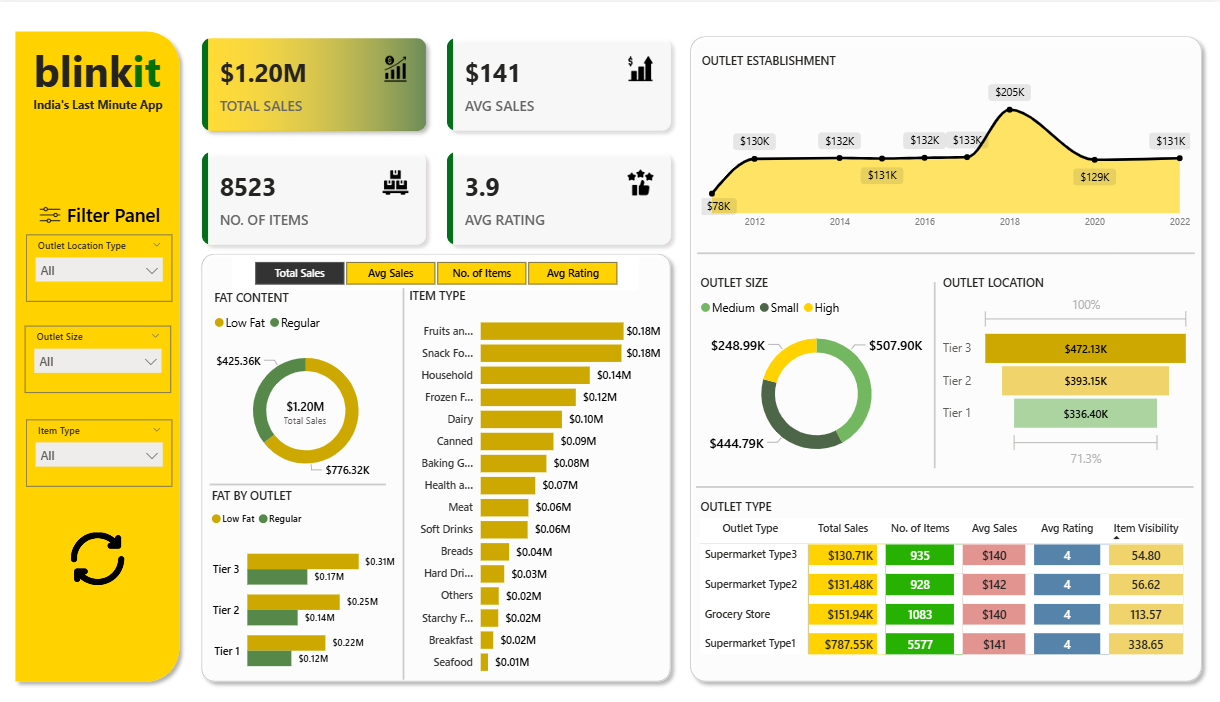

The page's visual inventory and layout, read from the dashboard file:
{"tool":"powerbi","page":{"name":"Page 1","canvas":[1400,800],"ordinal":0},"visuals":[{"type":"shape","box":[12.9,24.3,205.7,761.4],"z":0},{"type":"textbox","box":[12.9,40,205.7,80],"z":1000},{"type":"textbox","box":[18.6,102.9,195.7,34.3],"z":2000},{"type":"cardVisual","fields":{"Data":["BlinkIT Grocery Data.Total Sales","BlinkIT Grocery Data.Avg Sales","BlinkIT Grocery Data.No. of Items","BlinkIT Grocery Data.Avg Rating"]},"box":[218.6,24.3,570,270],"z":3000},{"type":"shape","box":[225.7,278.6,554.3,507.1],"z":4000},{"type":"donutChart","title":"FAT CONTENT","fields":{"Y":["BlinkIT Grocery Data.Total Sales"],"Category":["BlinkIT Grocery Data.Item Fat Content"]},"box":[244.3,328.6,220,230],"z":5000},{"type":"slicer","fields":{"Values":["Metrics.Metrics"]},"box":[270,290,464.3,40],"z":6000},{"type":"cardVisual","fields":{"Data":["BlinkIT Grocery Data.Total Sales"]},"box":[305.7,428.6,95.7,80],"z":7000},{"type":"barChart","title":"ITEM TYPE","fields":{"Y":["BlinkIT Grocery Data.Total Sales"],"Category":["BlinkIT Grocery Data.Item Type"]},"box":[467.1,325.7,297.1,454.3],"z":8000},{"type":"clusteredBarChart","title":"FAT BY OUTLET","fields":{"Y":["BlinkIT Grocery Data.Total Sales"],"Category":["BlinkIT Grocery Data.Outlet Location Type"],"Series":["BlinkIT Grocery Data.Item Fat Content"]},"box":[241.4,554.3,220,230],"z":9000},{"type":"shape","box":[244.3,534.3,201.4,34.3],"z":10000},{"type":"shape","box":[445.7,327.1,40,447.1],"z":11000},{"type":"shape","box":[784.3,30,602.9,755.7],"z":12000},{"type":"lineChart","title":"OUTLET ESTABLISHMENT","fields":{"Category":["BlinkIT Grocery Data.Outlet Establishment Year"],"Y":["BlinkIT Grocery Data.Total Sales"]},"box":[801.4,57.1,568.6,211.4],"z":13000},{"type":"shape","box":[801.4,270,568.6,34.3],"z":14000},{"type":"donutChart","title":"OUTLET SIZE","fields":{"Y":["BlinkIT Grocery Data.Total Sales"],"Category":["BlinkIT Grocery Data.Outlet Size"]},"box":[800,312,275.7,225.7],"z":15000},{"type":"shape","box":[1052.9,320,40,212.9],"z":16000},{"type":"funnel","title":"OUTLET LOCATION","fields":{"Y":["BlinkIT Grocery Data.Total Sales"],"Category":["BlinkIT Grocery Data.Outlet Location Type"]},"box":[1077.1,312,292.9,225.7],"z":17000},{"type":"shape","box":[800,537.1,568.6,34.3],"z":18000},{"type":"pivotTable","title":"OUTLET TYPE","fields":{"Values":["BlinkIT Grocery Data.Total Sales","BlinkIT Grocery Data.No. of Items","BlinkIT Grocery Data.Avg Sales","BlinkIT Grocery Data.Avg Rating","Sum(BlinkIT Grocery Data.Item Visibility)"],"Rows":["BlinkIT Grocery Data.Outlet Type"]},"box":[800,567.1,572.9,214.3],"z":19000},{"type":"slicer","fields":{"Values":["BlinkIT Grocery Data.Outlet Location Type"]},"box":[34.3,265.7,167.1,77.1],"z":20000},{"type":"slicer","fields":{"Values":["BlinkIT Grocery Data.Outlet Size"]},"box":[32.9,370,167.1,77.1],"z":21000},{"type":"slicer","fields":{"Values":["BlinkIT Grocery Data.Item Type"]},"box":[34.3,477.1,167.1,77.1],"z":22000},{"type":"textbox","box":[76.4,222.5,134,42.9],"z":23000},{"type":"image","box":[28.2,227.9,65.7,29.5],"z":23001},{"type":"image","box":[76.1,601.1,80.7,73],"z":23002}]}

Visuals, with their boxes in screenshot pixels (x1, y1, x2, y2), scaled from the page's 1400x800 canvas onto the 1220x702 screenshot:
shape: 11, 21, 190, 689
textbox: 11, 35, 190, 105
textbox: 16, 90, 187, 120
cardVisual - BlinkIT Grocery Data.Total Sales x BlinkIT Grocery Data.Avg Sales: 190, 21, 687, 258
shape: 197, 244, 680, 689
"FAT CONTENT" donutChart: 213, 288, 405, 490
slicer - Metrics.Metrics: 235, 254, 640, 290
cardVisual - BlinkIT Grocery Data.Total Sales: 266, 376, 350, 446
"ITEM TYPE" barChart: 407, 286, 666, 684
"FAT BY OUTLET" clusteredBarChart: 210, 486, 402, 688
shape: 213, 469, 388, 499
shape: 388, 287, 423, 679
shape: 683, 26, 1209, 689
"OUTLET ESTABLISHMENT" lineChart: 698, 50, 1194, 236
shape: 698, 237, 1194, 267
"OUTLET SIZE" donutChart: 697, 274, 937, 472
shape: 918, 281, 952, 468
"OUTLET LOCATION" funnel: 939, 274, 1194, 472
shape: 697, 471, 1193, 501
"OUTLET TYPE" pivotTable: 697, 498, 1196, 686
slicer - BlinkIT Grocery Data.Outlet Location Type: 30, 233, 176, 301
slicer - BlinkIT Grocery Data.Outlet Size: 29, 325, 174, 392
slicer - BlinkIT Grocery Data.Item Type: 30, 419, 176, 486
textbox: 67, 195, 183, 233
image: 25, 200, 82, 226
image: 66, 527, 137, 592
